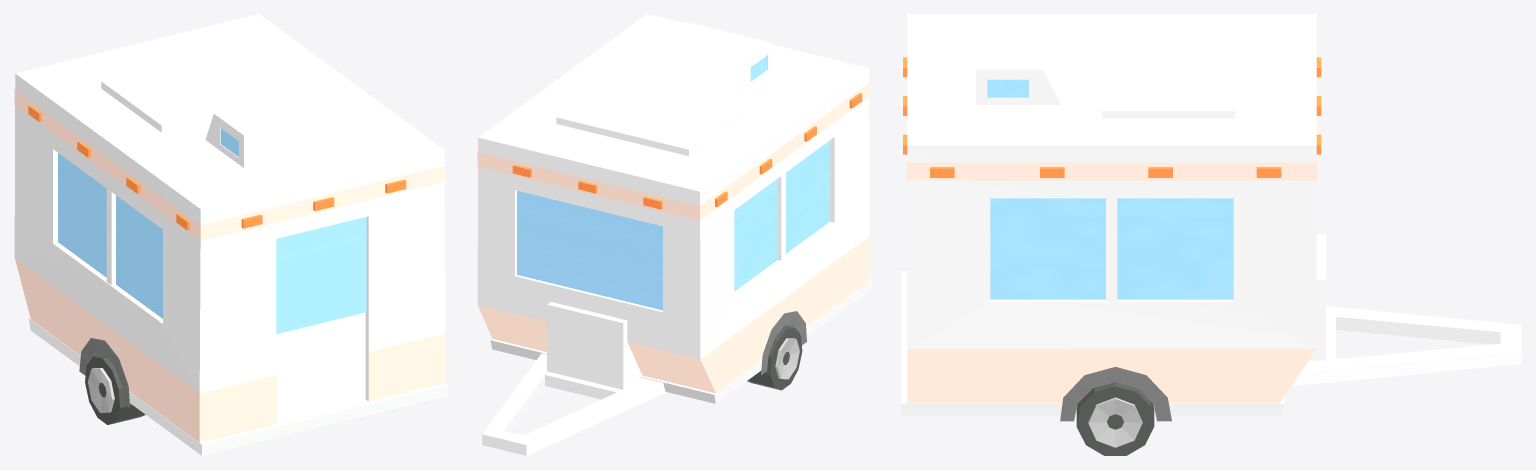
The model's file is transport_old.010.glb.
3 views of the same model, side by side, from view 1: azimuth 30°, elevation 25°; view 2: azimuth 150°, elevation 25°; view 3: azimuth 270°, elevation 25° (orthographic). The views are drawn at different scales.
Visible parts, largest first — view 1: transport_old.010(Clone); view 2: transport_old.010(Clone); view 3: transport_old.010(Clone).
Part boxes in pixels (bbox=[...]): transport_old.010(Clone): bbox=[14, 14, 448, 455]; transport_old.010(Clone): bbox=[477, 14, 872, 455]; transport_old.010(Clone): bbox=[901, 14, 1521, 455].
Bounding box in the file's own units: 1.57 × 1.83 × 2.97.
Materials: 1 (1 with a texture image).
